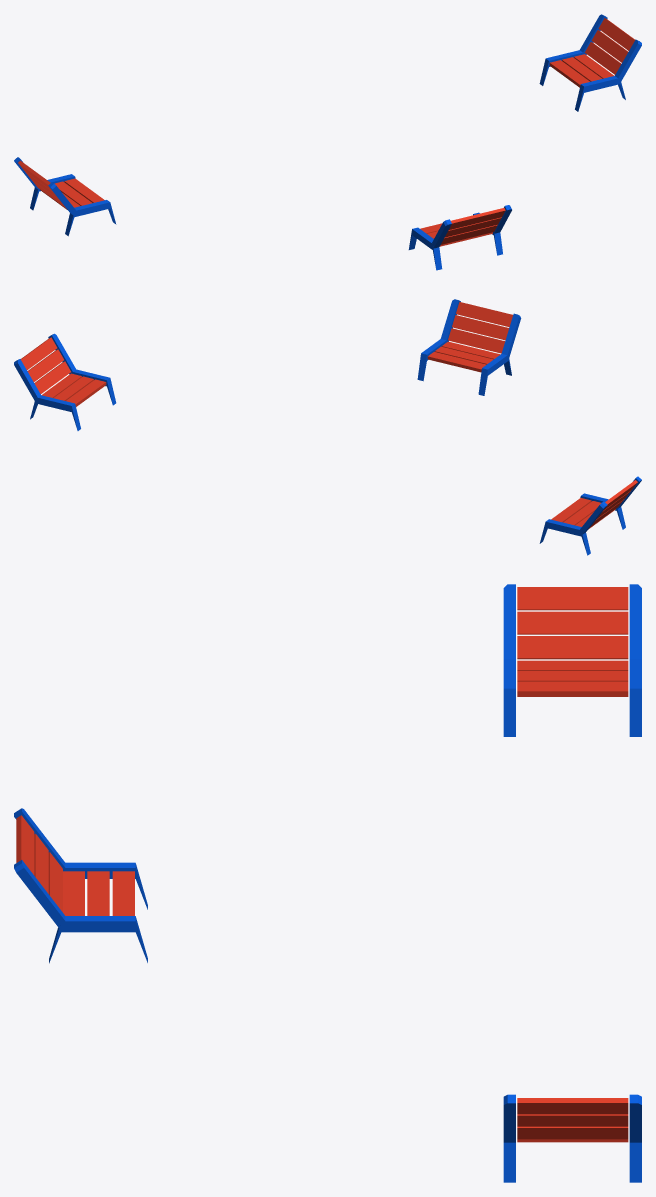
The model's file is branches.fbx.
3 views of the same model, one above another, from view 1: azimuth 30°, elevation 25°; view 2: azimuth 150°, elevation 25°; view 3: azimuth 270°, elevation 25° (orthographic). The views are drawn at different scales.
Visible parts, largest first — view 1: Cube.004, Cube.005; view 2: Cube.004, Cube.005; view 3: Cube.004, Cube.005.
Part boxes in pixels (left/top/right/bottom): Cube.004: left=18, top=18, right=634, bottom=246; Cube.005: left=14, top=14, right=641, bottom=270; Cube.004: left=20, top=302, right=637, bottom=529; Cube.005: left=14, top=299, right=641, bottom=555; Cube.004: left=16, top=587, right=628, bottom=1142; Cube.005: left=14, top=584, right=641, bottom=1182.
Size of the model in its own units: 266 by 23.78 by 136.
